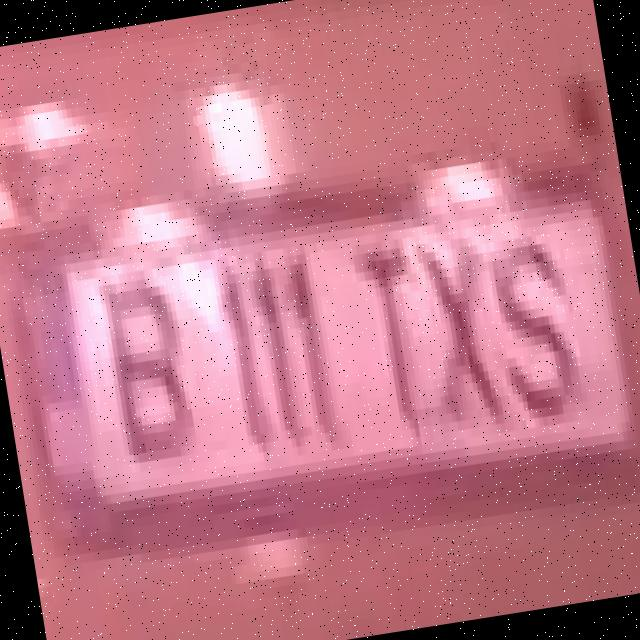Autre: (9, 166, 640, 560)
